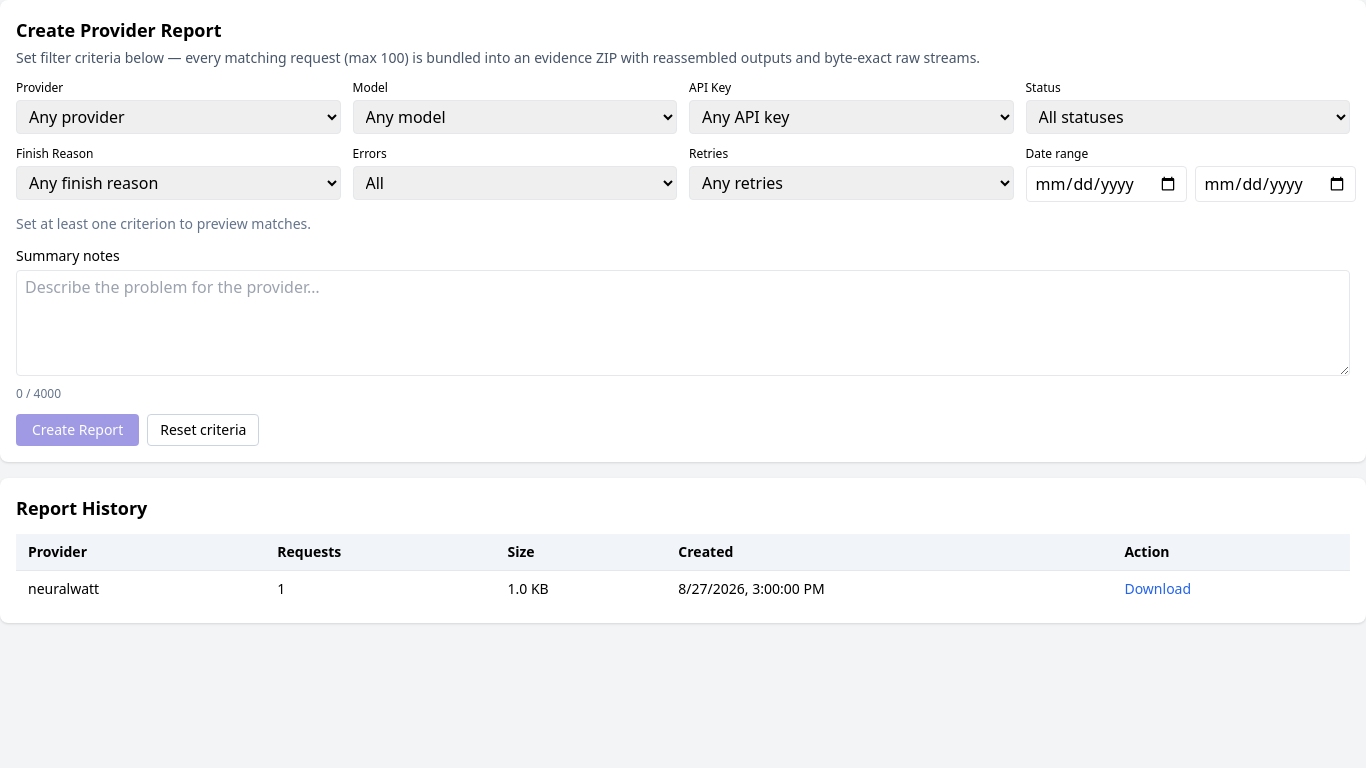
Test: ReportsView › warns when the preview is over the cap and blocks create
Step 1. Select "big" in the dropdown labelled "Provider" → [178, 117], box [16,100,340,134]
Wait 400 ms
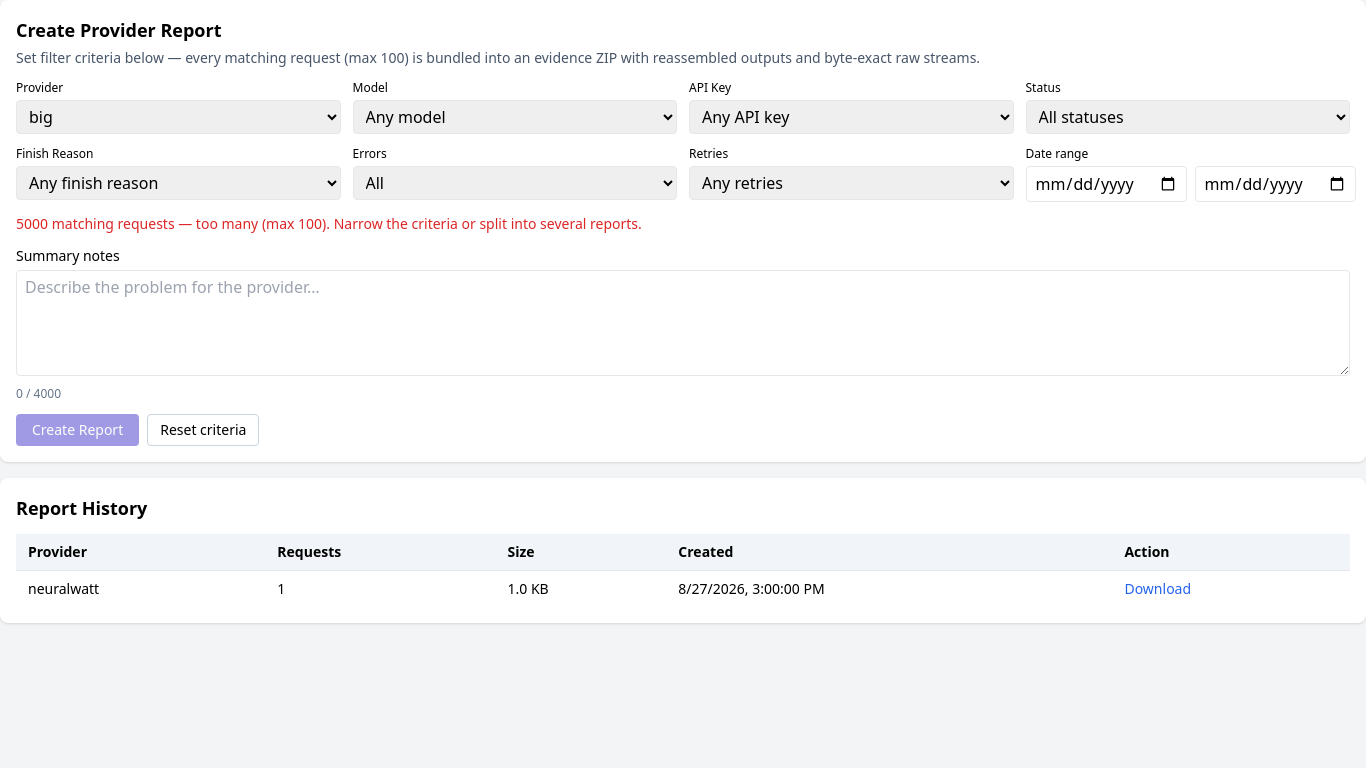
Expected: the button "Create Report" is disabled, [16,414,139,446]
Expected: the text "too many" is shown, [48,214,298,233]
